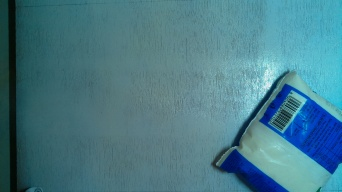m: (213, 67, 342, 189)
